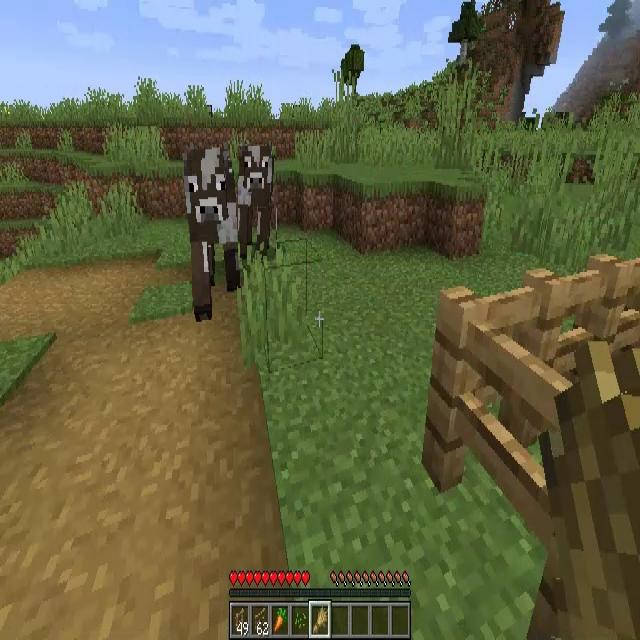cow: (188, 144, 242, 320), (238, 146, 276, 260)
